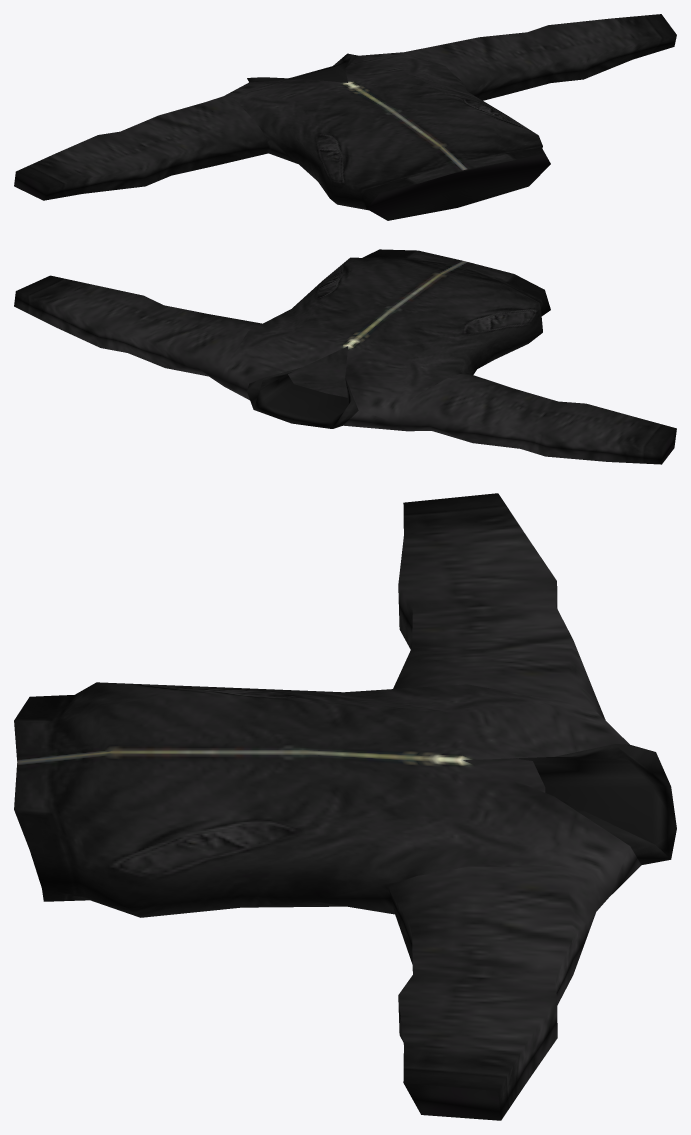
The model's file is Bomber_Ground.fbx.
The picture shows the model from 3 angles, top to bottom: view 1: azimuth 30°, elevation 25°; view 2: azimuth 150°, elevation 25°; view 3: azimuth 270°, elevation 25°; orthographic projection. The views are drawn at different scales.
Parts seen in each view (by area): view 1: Body.025; view 2: Body.025; view 3: Body.025.
Boxes of the visible parts, x1,y1,x2,y2 form: Body.025: (14,14,676,220); Body.025: (14,249,676,464); Body.025: (14,493,676,1120).
Size of the model in its own units: 0.7634 by 0.0583 by 0.3565.
